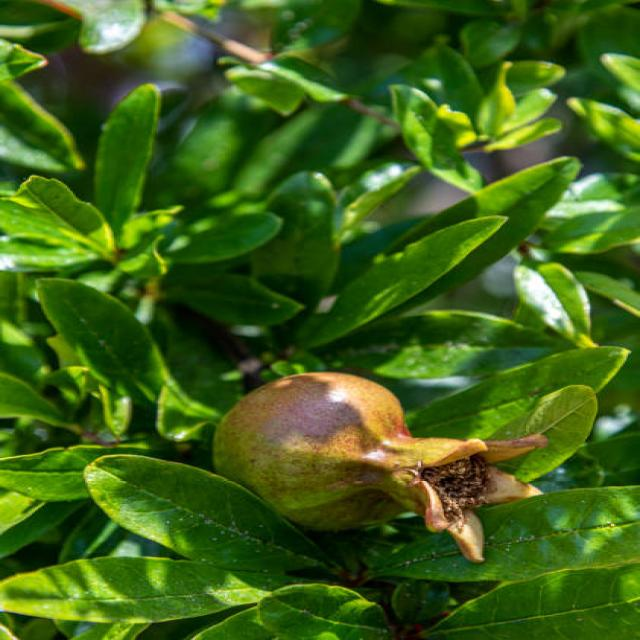Unripe: (207, 370, 541, 564)
